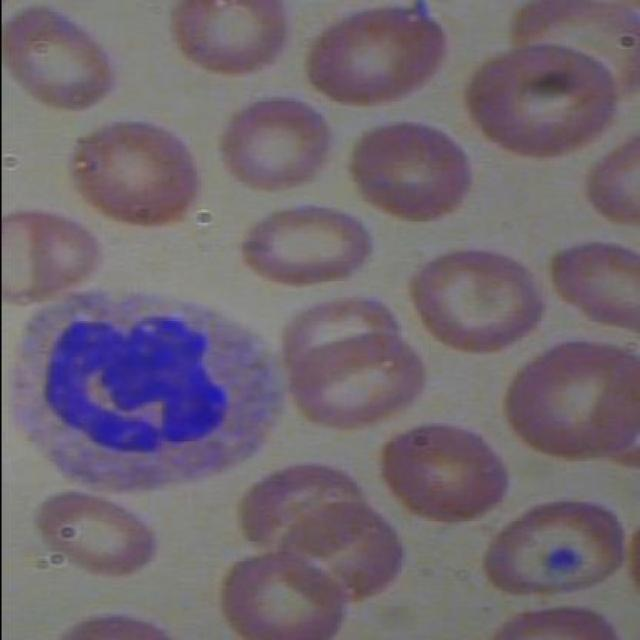RBC: (394, 242, 551, 360), (467, 44, 624, 162), (498, 337, 638, 466), (484, 493, 636, 607), (282, 324, 424, 442), (303, 3, 451, 111), (2, 6, 140, 116), (73, 120, 202, 237), (276, 499, 407, 612), (379, 421, 510, 533), (347, 119, 479, 223), (212, 95, 338, 198), (220, 542, 354, 638), (237, 202, 375, 293), (32, 488, 159, 586), (168, 2, 308, 88), (1, 207, 121, 307), (542, 234, 638, 343)
WBC: (2, 274, 290, 498)
